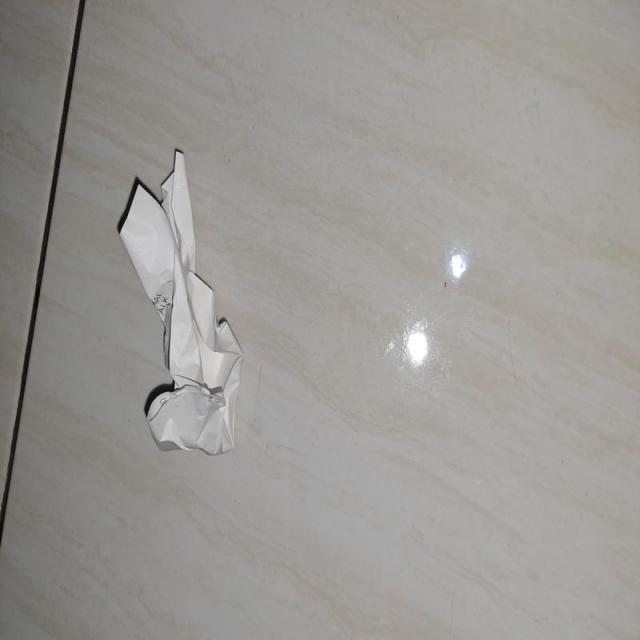Organik: (104, 135, 266, 475)
